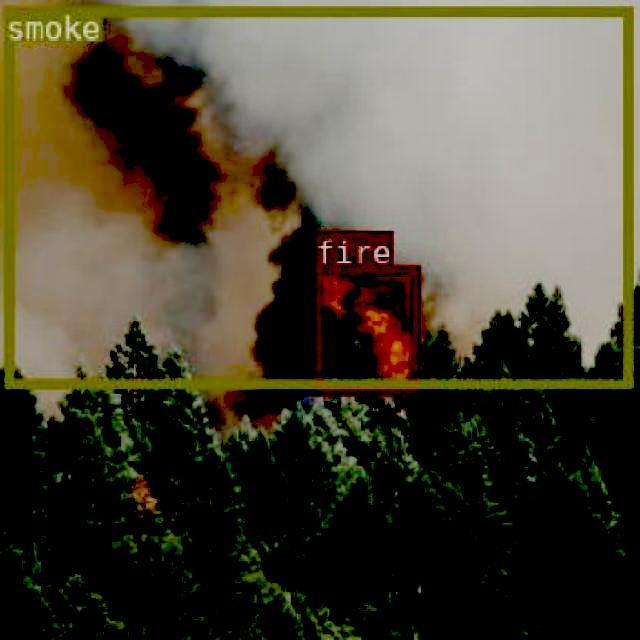fire: (314, 265, 417, 393)
smoke: (4, 5, 632, 388)
